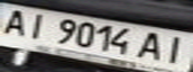0: (72, 19, 96, 49)
1: (93, 23, 115, 53)
4: (112, 25, 136, 56)
9: (48, 16, 78, 45)
A: (136, 29, 172, 63), (0, 6, 36, 37)
I: (157, 34, 193, 65), (18, 10, 54, 40)
